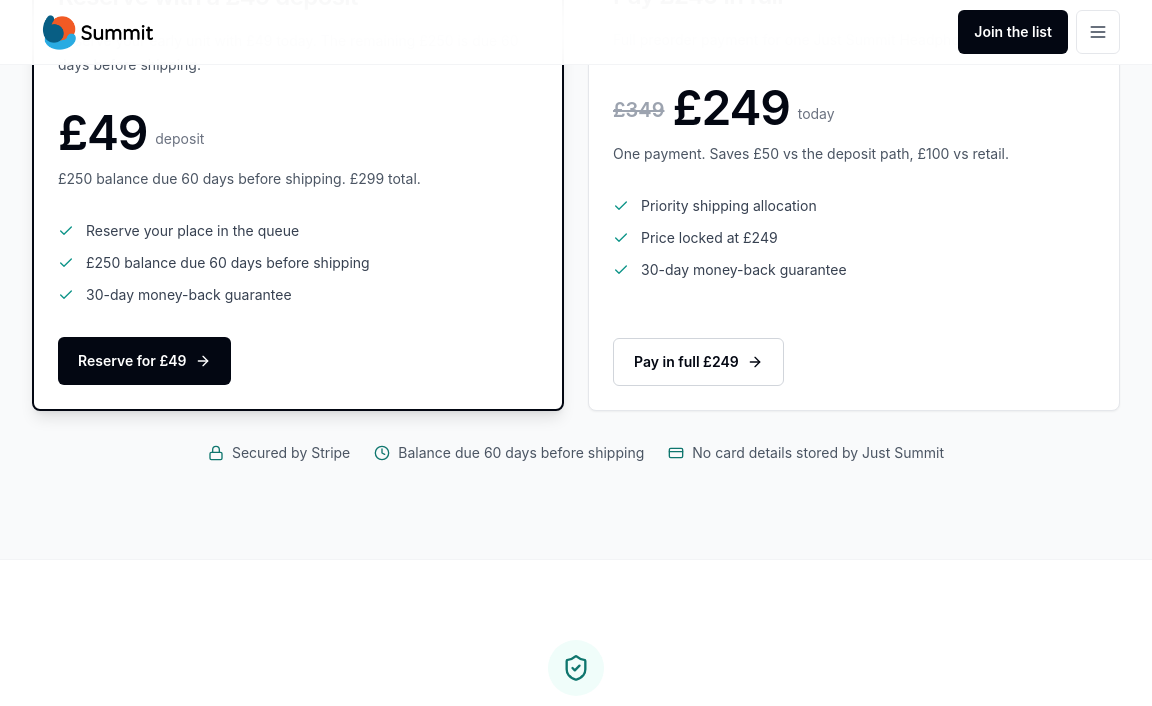
Test: HomePage › keeps deposit checkout working from the pricing section
(page scrolled)
Click the button with test id "checkout-headphones-deposit-pricing": x=144, y=360 [58,336,231,384]
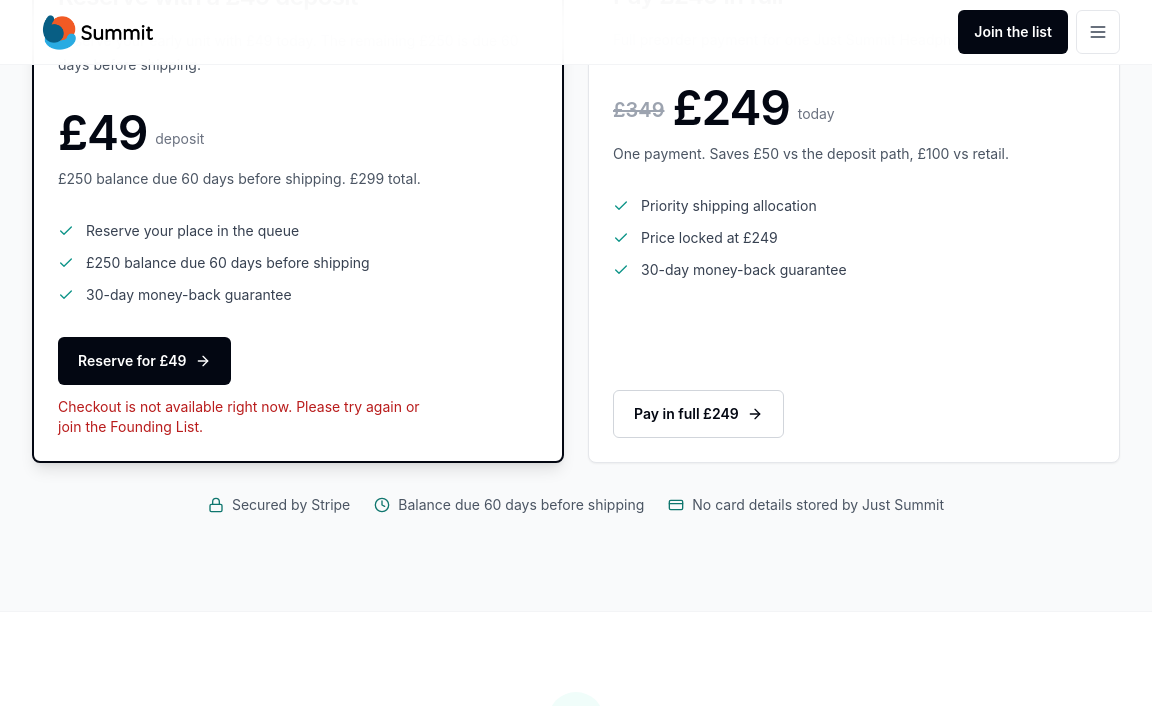
Now the text "Checkout is not available right now" is shown, box [58,398,420,434]
